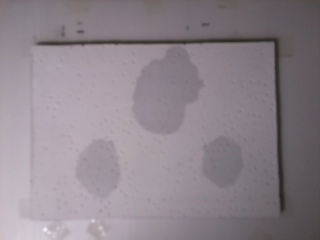Water_detected: (144, 66, 191, 134), (87, 150, 119, 189), (205, 148, 231, 168)
